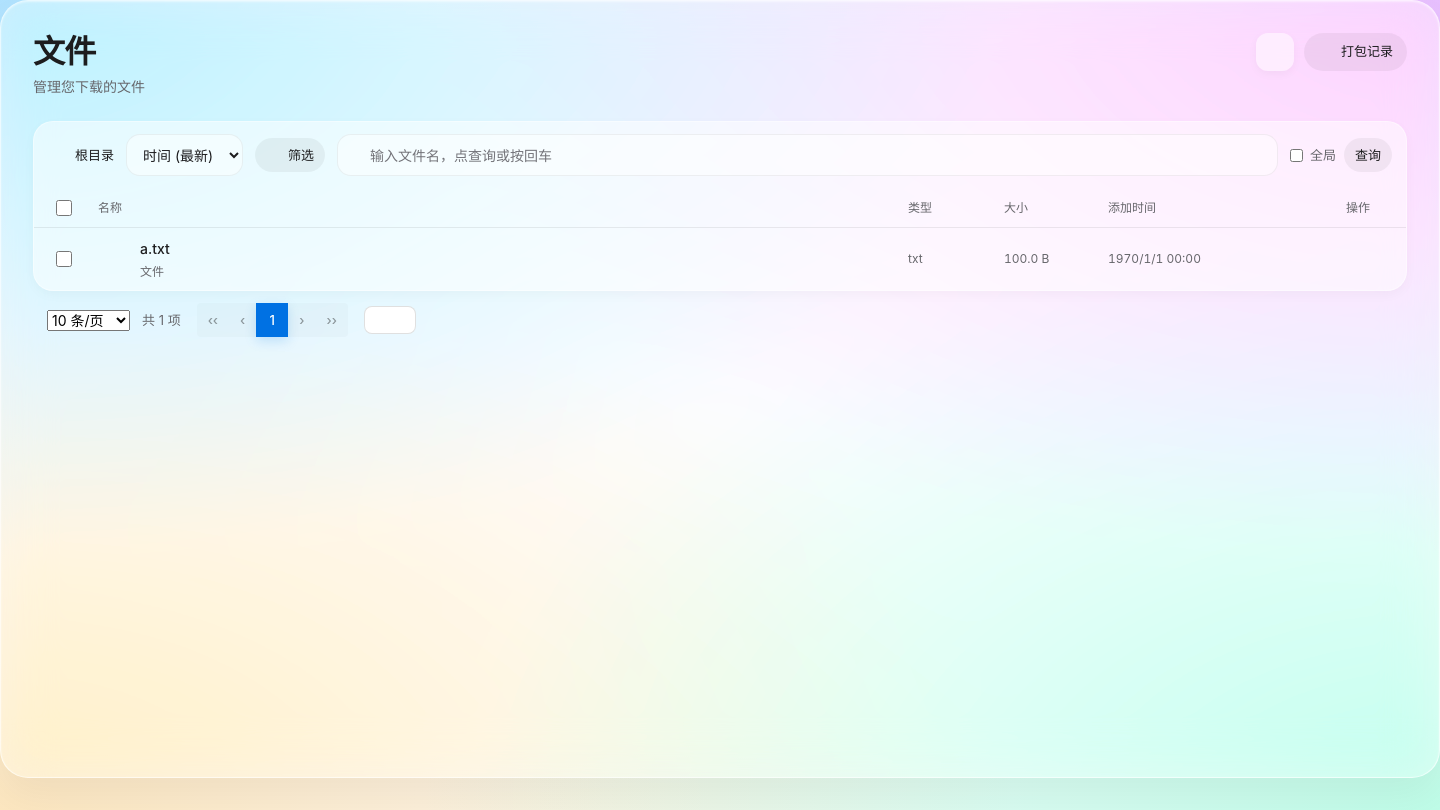
Test: FilesPage 搜索 › 搜索请求失败在弹窗里展示错误
Check: the text "a.txt" is shown, box x1=140 y1=240 x2=170 y2=257
Type "目标" into the field named "搜索文件" at (807, 155), box x1=337 y1=134 x2=1278 y2=176
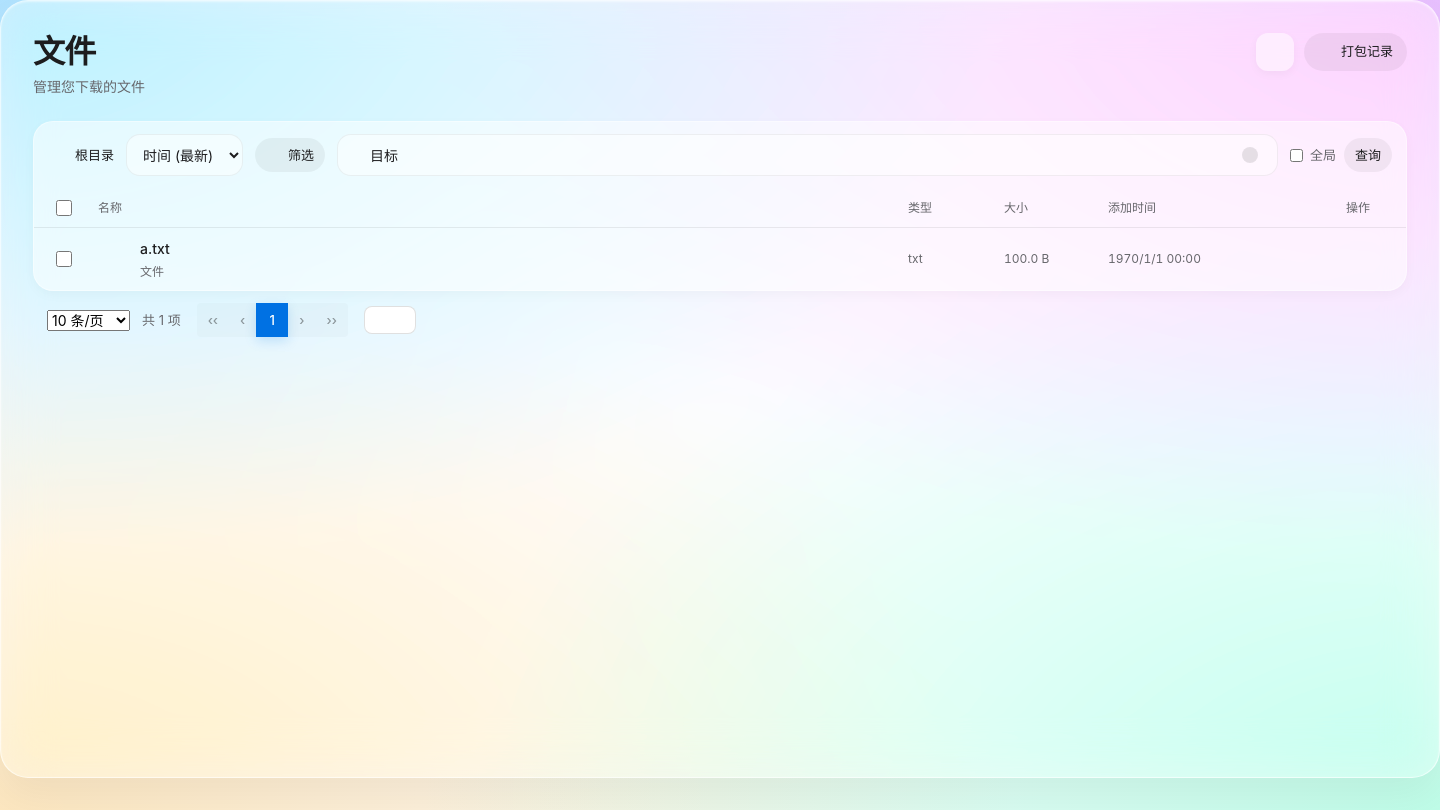
Click the button "查询" at (1368, 155), box x1=1344 y1=138 x2=1392 y2=172
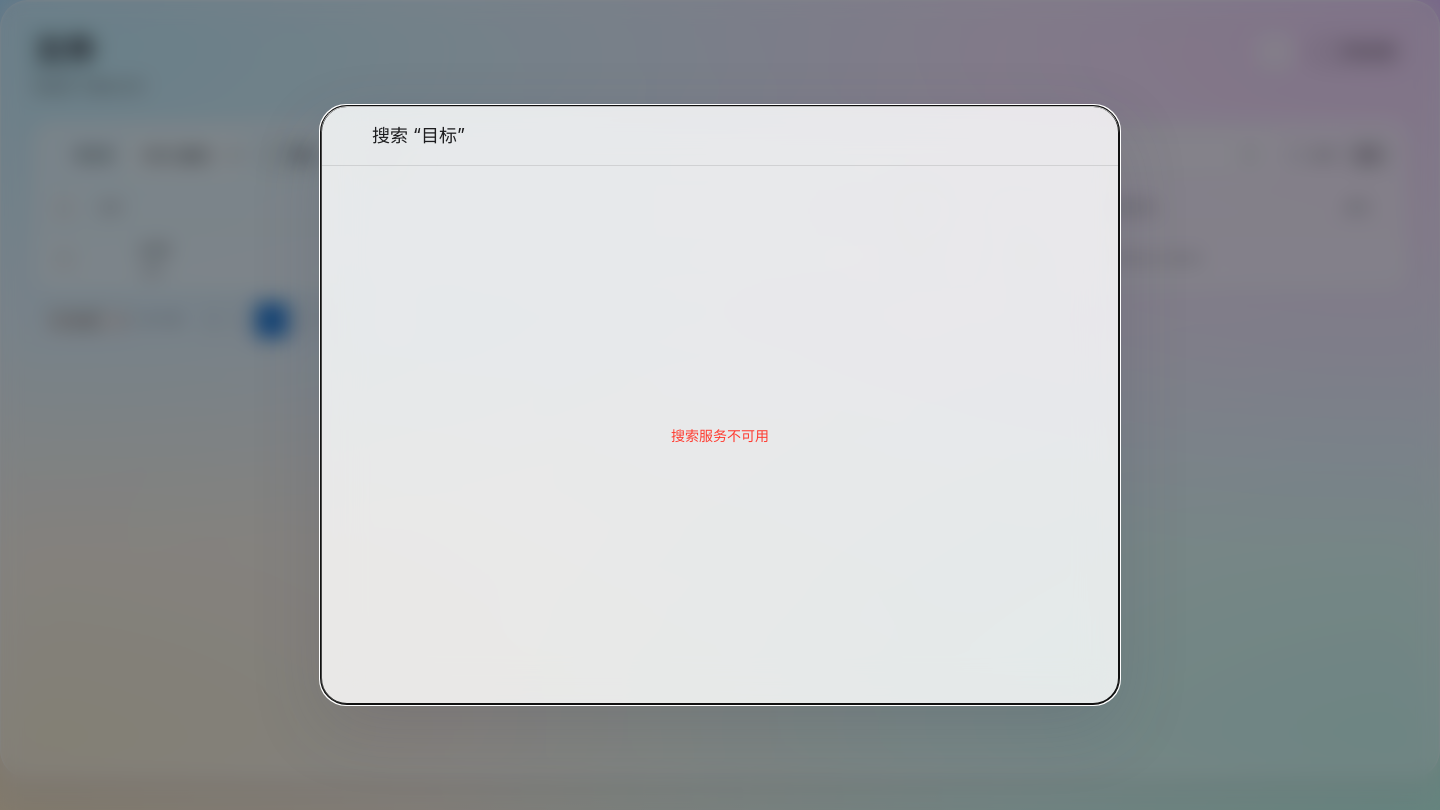
Check: the text "搜索服务不可用" is shown, box x1=671 y1=424 x2=769 y2=446
